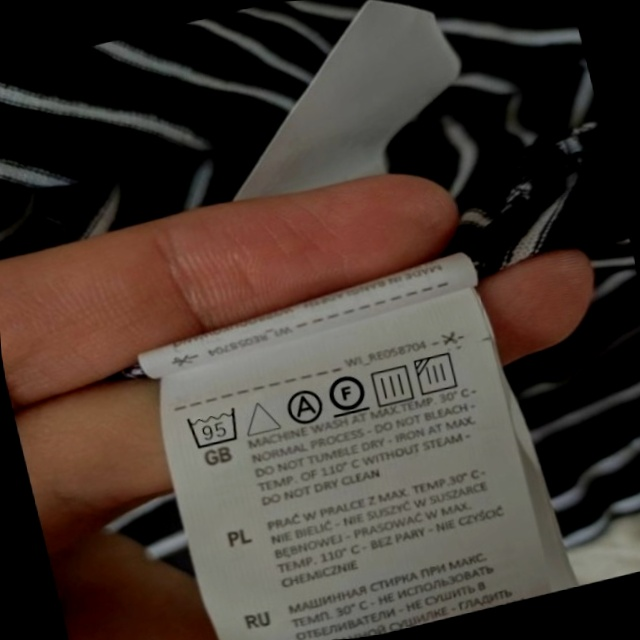95C: (183, 402, 246, 453)
bleach: (239, 393, 282, 441)
drip_dry: (366, 360, 418, 410)
drip_dry_in_shade: (412, 347, 465, 400)
dry_clean: (281, 385, 326, 429)
dry_clean_petrol_only: (324, 367, 372, 420)
